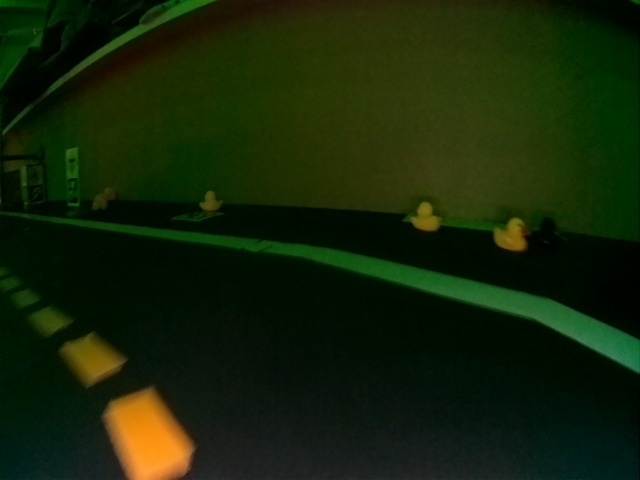Duckie: (494, 218, 526, 252), (411, 202, 442, 232), (200, 191, 222, 210), (93, 194, 108, 209), (106, 189, 113, 199)
Intersection sign: (67, 149, 78, 176), (28, 168, 42, 184)
QR code: (175, 211, 217, 223), (66, 178, 79, 202), (29, 186, 44, 202)
